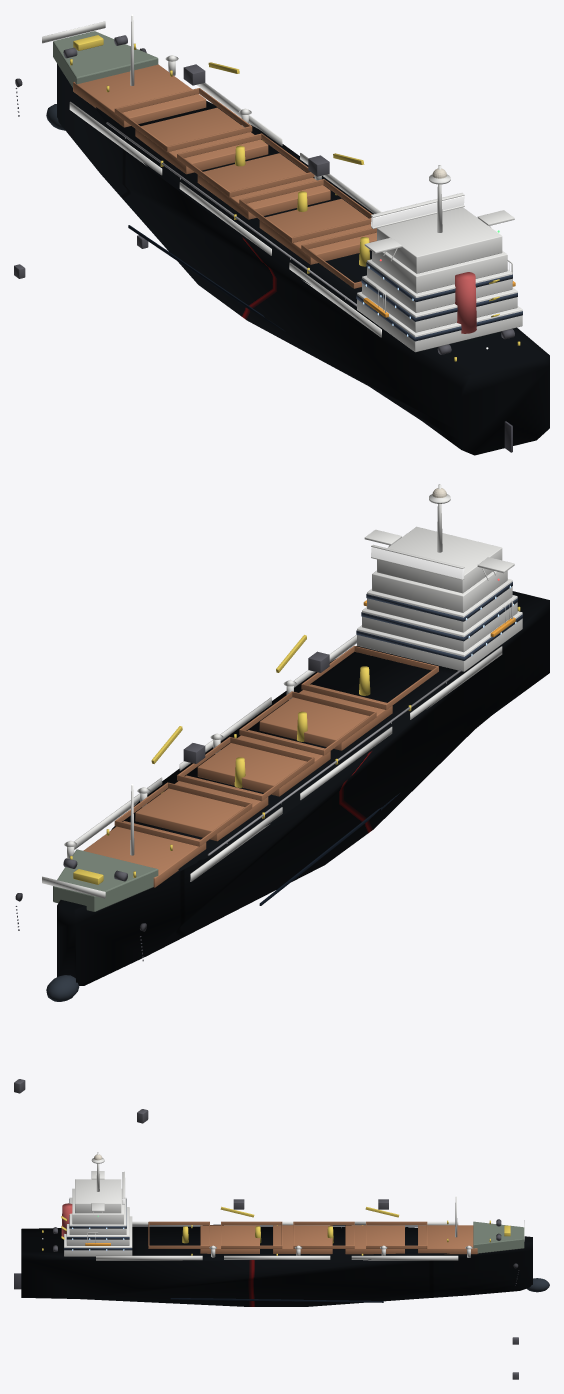
The model's file is ShipHull_VR_v3.2.glb.
The picture shows the model from 3 angles, top to bottom: view 1: azimuth 30°, elevation 25°; view 2: azimuth 150°, elevation 25°; view 3: azimuth 270°, elevation 25°; orthographic projection. The views are drawn at different scales.
Parts seen in each view (by area): view 1: ship_hull, super_deck_5, cargo_hatch_1, cargo_hatch_2, cargo_hatch_3, cargo_hatch_4, forecastle, super_deck_1, super_deck_4, super_deck_2, super_deck_3, funnel (+15 smaller); view 2: ship_hull, cargo_hatch_2, super_deck_5, cargo_hatch_3, cargo_hatch_4, forecastle, cargo_hatch_1, super_deck_1, super_deck_4, super_deck_2, super_deck_3, bridge_front_window_band (+4 smaller); view 3: ship_hull, cargo_hatch_2, cargo_hatch_1, cargo_hatch_3, super_deck_5, cargo_hatch_4, forecastle, super_deck_4, super_deck_1, super_deck_3, bulwark_starboard_seg_1, bulwark_starboard_seg_3 (+3 smaller).
Part boxes in pixels (x1,y1,x2,y2): ship_hull: (57,63,549,455); super_deck_5: (377,207,502,273); cargo_hatch_1: (73,64,206,127); cargo_hatch_2: (135,107,268,174); cargo_hatch_3: (197,153,330,219); cargo_hatch_4: (259,198,376,264); forecastle: (53,31,158,87); super_deck_1: (357,291,522,352); super_deck_4: (372,251,507,293); super_deck_2: (362,275,517,332); super_deck_3: (367,259,512,312); funnel: (455,272,476,333); ship_hull: (57,591,549,985); cargo_hatch_2: (135,775,268,841); super_deck_5: (377,526,502,593); cargo_hatch_3: (197,730,330,796); cargo_hatch_4: (259,684,392,750); forecastle: (53,849,158,911); cargo_hatch_1: (83,821,206,887); super_deck_1: (357,611,522,671); super_deck_4: (372,570,507,612); super_deck_2: (362,595,517,652); super_deck_3: (367,579,512,632); bridge_front_window_band: (371,547,464,578); ship_hull: (21,1224,532,1306); cargo_hatch_2: (345,1225,404,1254); cargo_hatch_1: (418,1225,477,1254); cargo_hatch_3: (273,1225,332,1254); super_deck_5: (75,1179,121,1213); cargo_hatch_4: (200,1225,259,1253); forecastle: (473,1221,524,1253); super_deck_4: (72,1188,123,1224); super_deck_1: (64,1216,132,1256); super_deck_3: (69,1197,126,1234); bulwark_starboard_seg_1: (96,1255,202,1260); bulwark_starboard_seg_3: (351,1255,458,1260).
Bounding box in the file's own units: 22 × 54.05 × 126.
Materials: 34 (1 with a texture image).
